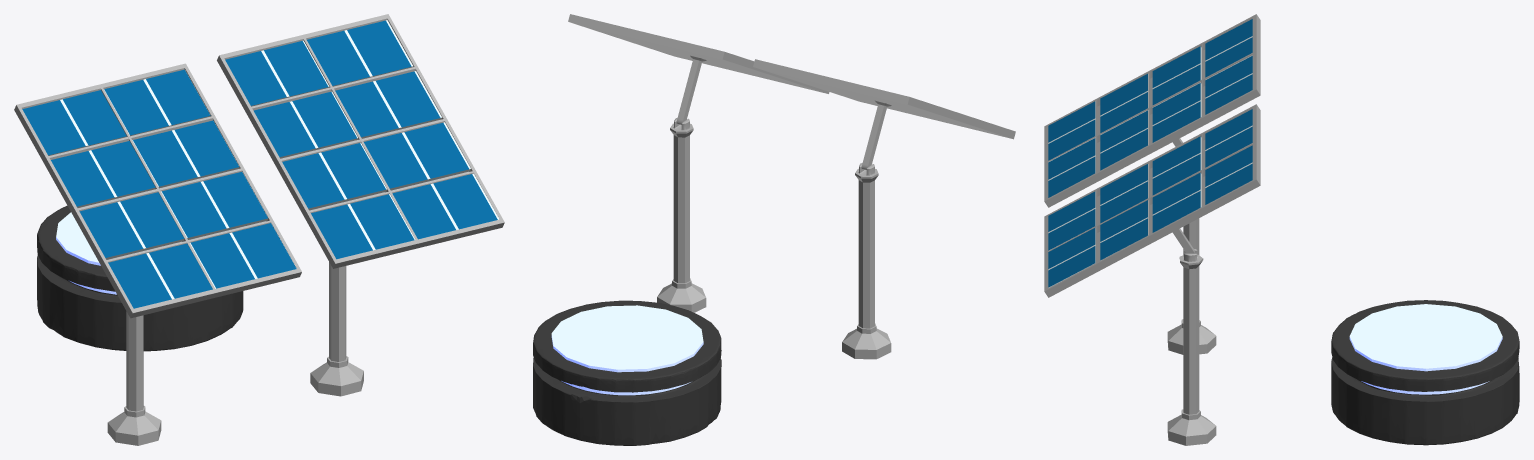
File: Decors_3.glb
3 views of the same model, side by side, from view 1: azimuth 30°, elevation 25°; view 2: azimuth 150°, elevation 25°; view 3: azimuth 270°, elevation 25° (orthographic). The views are drawn at different scales.
Parts seen in each view (by area): view 1: SolarScreen2, SolarScreen1, Hologrambase, SolarPanel, SolarPanel2, Cylinder.008, Cylinder.009, HologramLight; view 2: Hologrambase, HologramLight, Cylinder.008, Cylinder.009, SolarPanel, SolarPanel2, Cube.025, Cube.030; view 3: Hologrambase, SolarScreen2, SolarScreen1, HologramLight, SolarPanel, SolarPanel2, Cylinder.009, Cylinder.008.
Part boxes in pixels (box(x1,y1,x2,y2)): SolarScreen2: box(225, 20, 499, 259); SolarScreen1: box(22, 69, 296, 308); Hologrambase: box(37, 205, 243, 351); SolarPanel: box(14, 63, 301, 318); SolarPanel2: box(217, 14, 504, 268); Cylinder.008: box(107, 311, 161, 445); Cylinder.009: box(310, 262, 363, 396); HologramLight: box(56, 212, 116, 294); Hologrambase: box(533, 300, 721, 445); HologramLight: box(551, 305, 703, 395); Cylinder.008: box(842, 163, 891, 359); Cylinder.009: box(657, 118, 706, 312); SolarPanel: box(753, 59, 1015, 139); SolarPanel2: box(568, 14, 829, 93); Cube.025: box(861, 100, 891, 169); Cube.030: box(676, 55, 706, 124); Hologrambase: box(1331, 300, 1519, 445); SolarScreen2: box(1048, 109, 1252, 287); SolarScreen1: box(1048, 19, 1252, 197); HologramLight: box(1349, 304, 1502, 394); SolarPanel: box(1044, 14, 1260, 207); SolarPanel2: box(1044, 104, 1260, 297); Cylinder.009: box(1167, 249, 1216, 445); Cylinder.008: box(1167, 218, 1216, 354).
Bounding box in the file's own units: 6.19 × 5.16 × 7.52.
